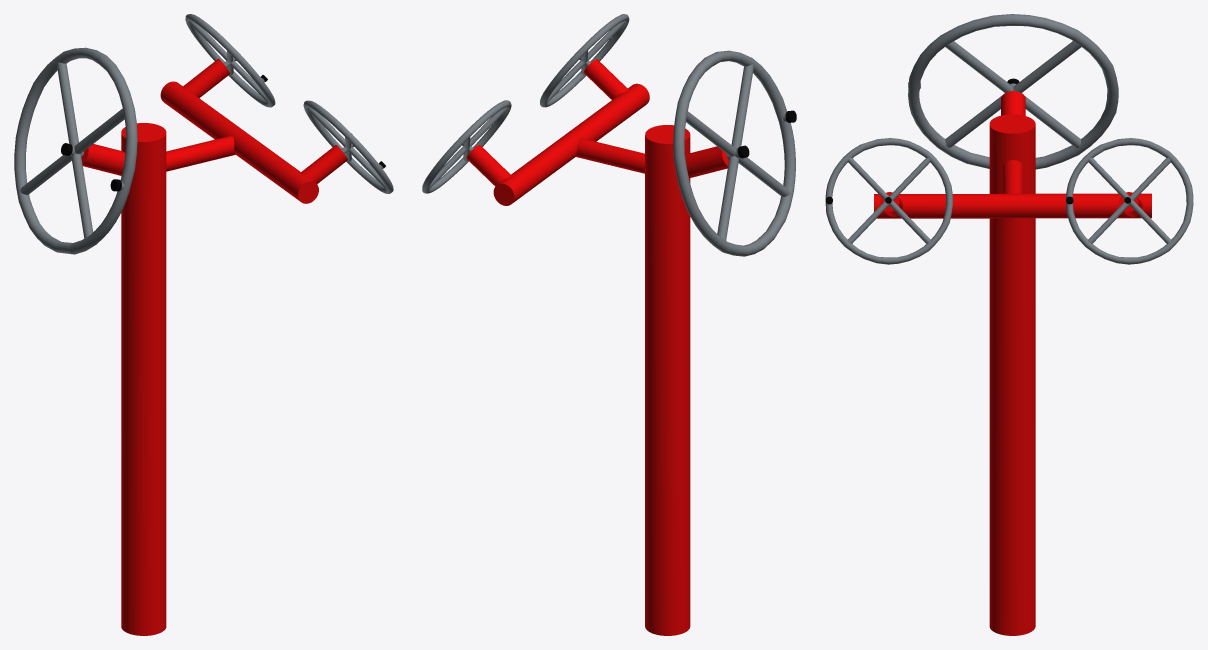
The model's file is MAQUINA RUEDAS.fbx.
3 views of the same model, side by side, from view 1: azimuth 30°, elevation 25°; view 2: azimuth 150°, elevation 25°; view 3: azimuth 270°, elevation 25° (orthographic). The views are drawn at different scales.
Parts seen in each view (by area): view 1: MAQUINA RUEDAS; view 2: MAQUINA RUEDAS; view 3: MAQUINA RUEDAS.
Part boxes in pixels (x1,y1,x2,y2): MAQUINA RUEDAS: (14, 14, 393, 635); MAQUINA RUEDAS: (422, 14, 796, 635); MAQUINA RUEDAS: (825, 14, 1193, 635).
Bounding box in the file's own units: 272 × 549 × 310.
